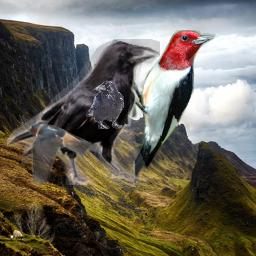Crow: (7, 39, 160, 185), (86, 80, 124, 129)
Swallow: (27, 121, 93, 184)
Woodpecker: (118, 30, 217, 187)
